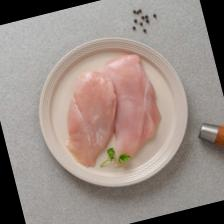chicken: (88, 48, 170, 166), (48, 64, 132, 172)
